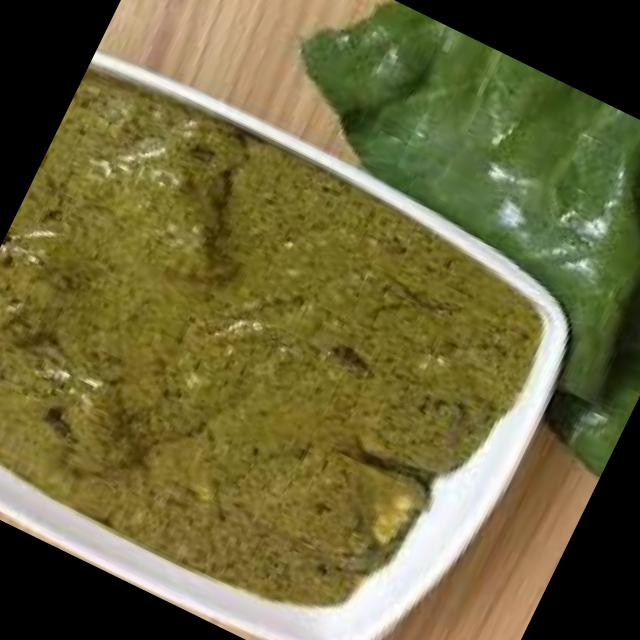palak_paneer: (0, 55, 570, 640)
